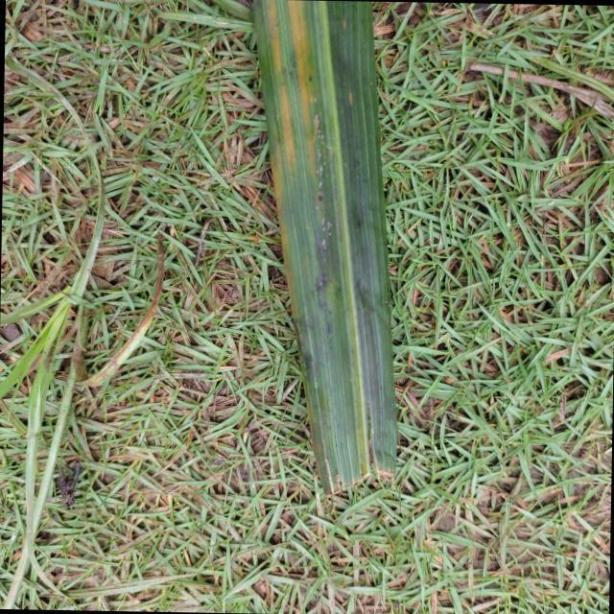Megnesium: (244, 0, 406, 500)
